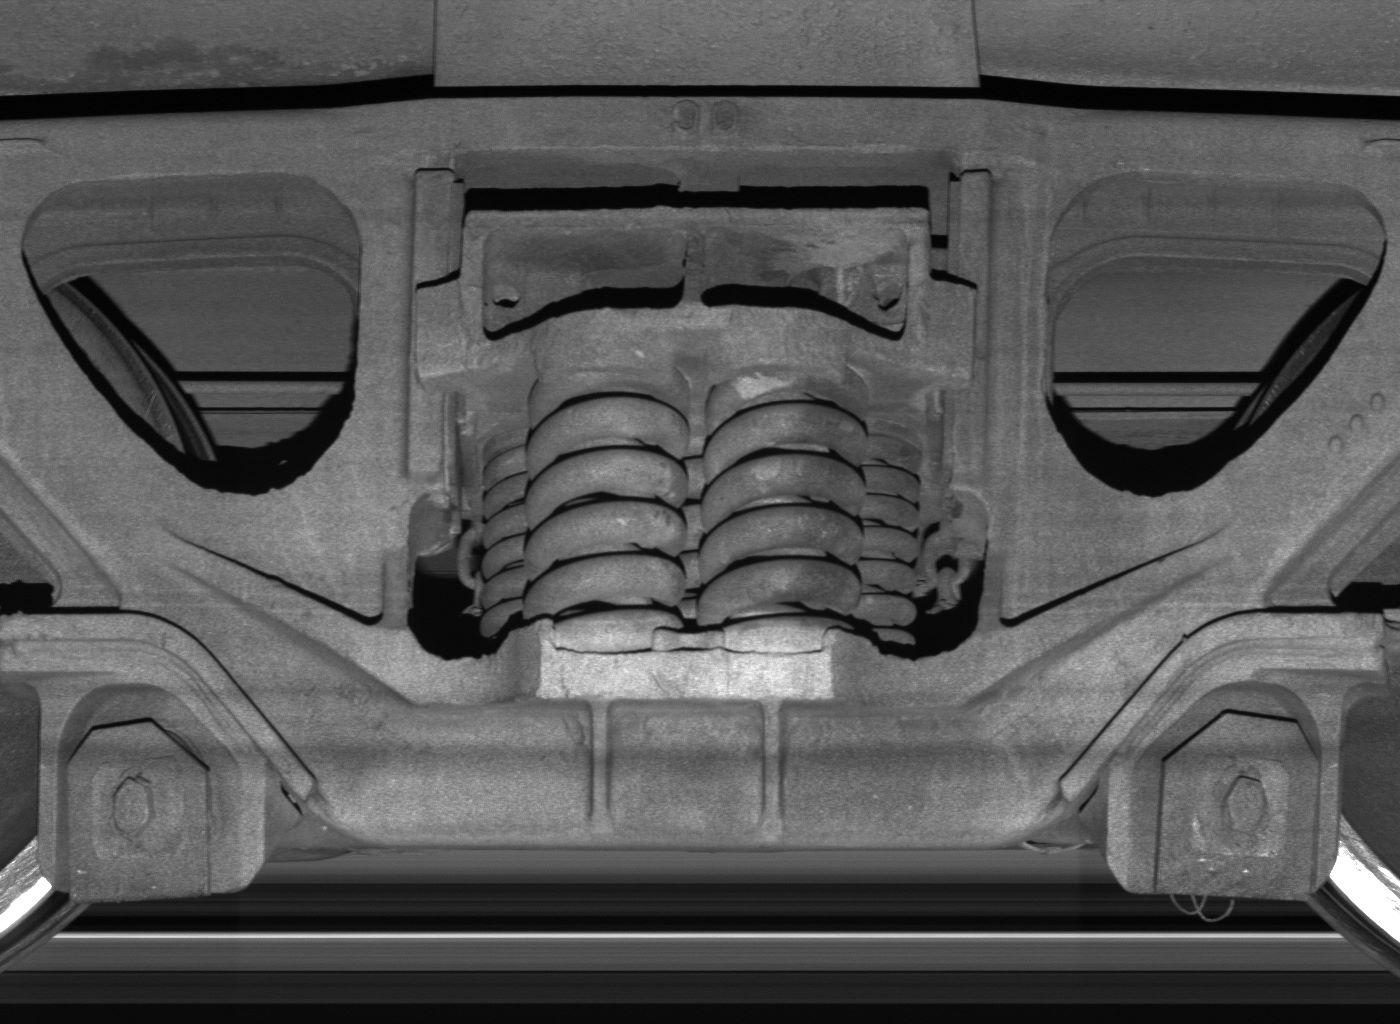normal: (39, 675, 262, 906), (1126, 667, 1337, 895)
